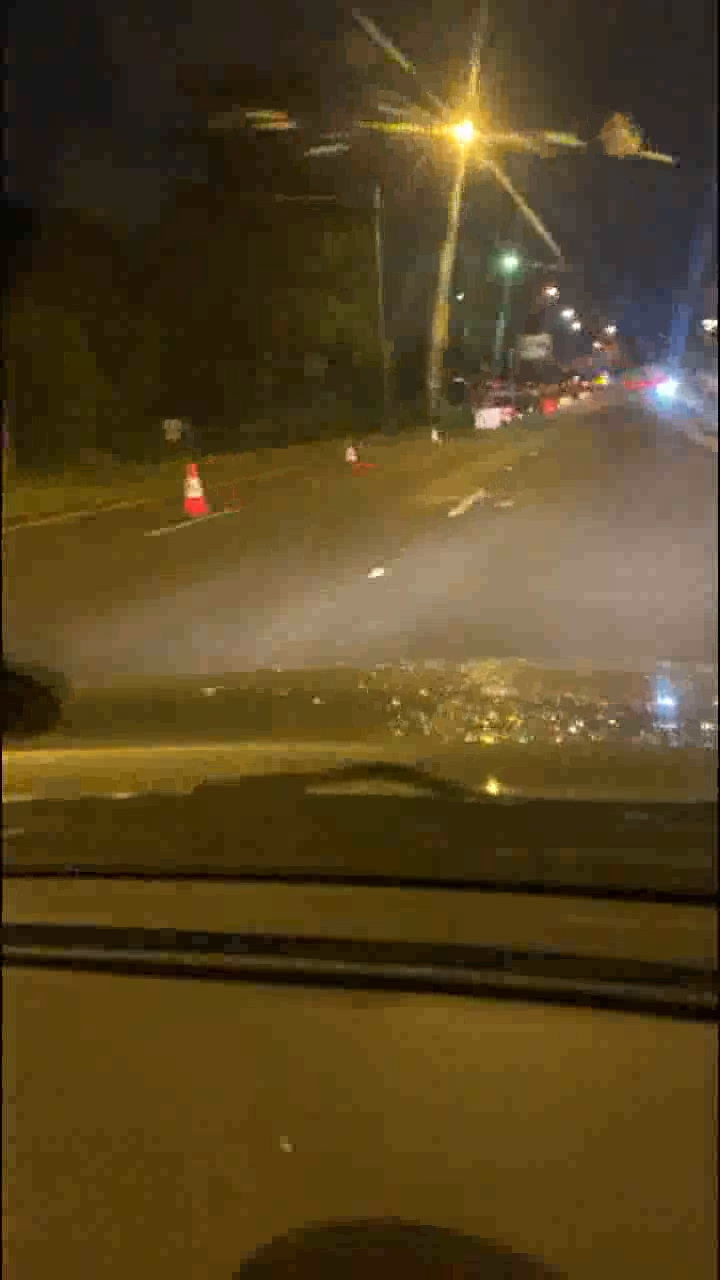road cone: (177, 467, 218, 523), (347, 442, 356, 473), (431, 432, 445, 450)
